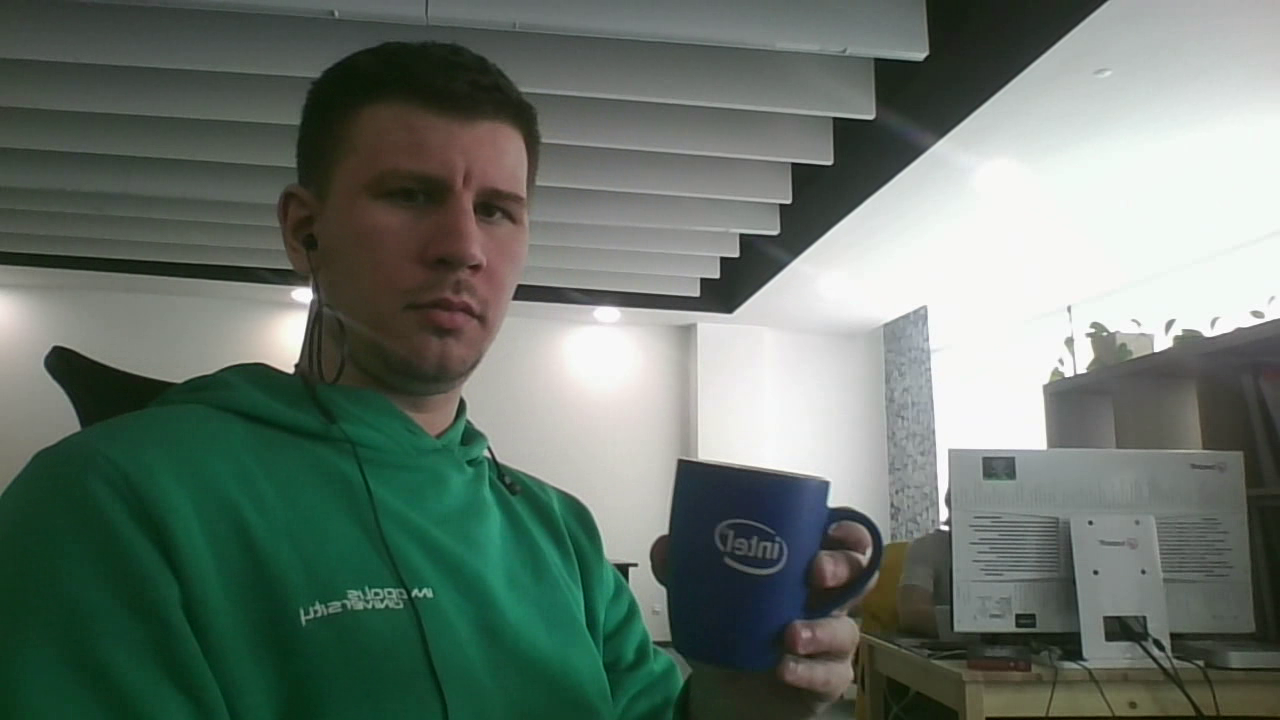cup: (663, 453, 884, 679)
